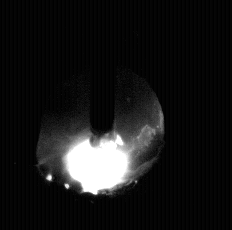arame: (89, 0, 115, 146)
poca: (36, 0, 165, 230)
